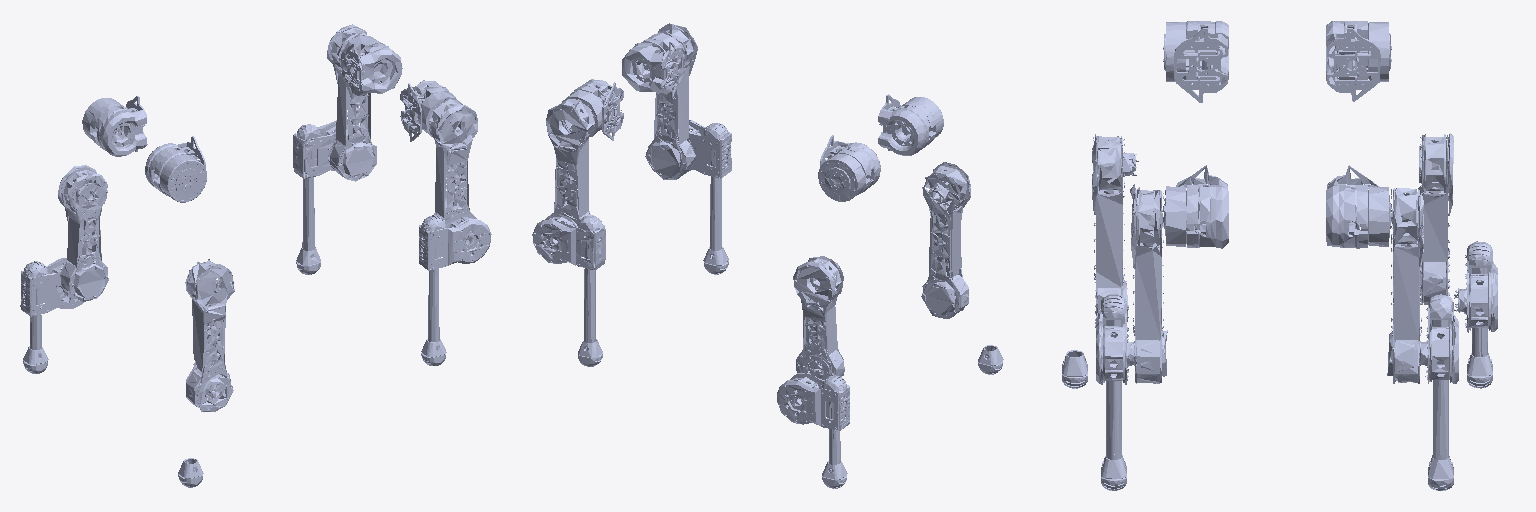
URDF robot description (anymal):
<?xml version="1.0" encoding="utf-8"?>
<!-- This URDF was automatically created by SolidWorks to URDF Exporter! Originally created by Stephen Brawner (brawner@gmail.com) 
     Commit Version: 1.6.0-4-g7f85cfe  Build Version: 1.6.7995.38578
     For more information, please see http://wiki.ros.org/sw_urdf_exporter -->
<robot
  name="anymal">
  <link
    name="base">
    <inertial>
      <origin
        xyz="0.003108 0.000061 0.008445"
        rpy="0 0 0" />
      <mass
        value="10.342" />
      <inertia
        ixx="131477391.556e-9"
        ixy="-35656.795e-9"
        ixz="257886.739e-9"
        iyy="328587491.167e-9"
        iyz="31766.975e-9"
        izz="423802600.524e-9" />
    </inertial>
    <visual>
      <origin
        xyz="0 0 0"
        rpy="0 0 0" />
      <geometry>
        <mesh
          filename="../meshes/base.dae" />
      </geometry>
      <material
        name="">
        <!-- <color
          rgba="0.79216 0.81961 0.93333 1" /> -->
      </material>
    </visual>
    <collision>
      <origin
        xyz="0 0 0.02"
        rpy="0 0 0" />
      <geometry>
        <box size="0.5 0.25 0.2" />
      </geometry>
    </collision>
  </link>
  <link
    name="FL_SHOULDER">
    <inertial>
      <origin
        xyz="51.772e-3 21.258e-3 -0.161e-3"
        rpy="0 0 0" />
      <mass
        value="1.276" />
      <inertia
        ixx="1862413.216e-9"
        ixy="34307.720e-9"
        ixz="1836.088e-9"
        iyy="1745876.060e-9"
        iyz="127.529e-9"
        izz="1887209.589e-9" />
    </inertial>
    <visual>
      <origin
        xyz="0 0 0"
        rpy="0 0 0" />
      <geometry>
        <mesh
          filename="../meshes/FL_SHOULDER.dae" />
      </geometry>
      <material
        name="">
        <color
          rgba="0.79216 0.81961 0.93333 1" />
      </material>
    </visual>
    <collision>
      <origin
        xyz="0.054 0 0"
        rpy="0 0 0" />
      <geometry>
        <box size="0.1 0.1 0.1" />
      </geometry>
    </collision>
  </link>
  <joint
    name="FL_HAA"
    type="revolute">
    <origin
      xyz="0.2635 0.12291 0"
      rpy="0 0 0" />
    <parent
      link="base" />
    <child
      link="FL_SHOULDER" />
    <axis
      xyz="1 0 0" />
    <limit
      lower="-3.14"
      upper="3.14"
      effort="30"
      velocity="20" />
  </joint>
  <link
    name="FL_UPPER_LEG">
    <inertial>
      <origin
        xyz="0.009e-3 25.634e-3 -165.001e-3"
        rpy="0 0 0" />
      <mass
        value="1.367" />
      <inertia
        ixx="16273403.695e-9"
        ixy="-161.140e-9"
        ixz="12937.356e-9"
        iyy="16691309.192e-9"
        iyz="130585.208e-9"
        izz="1167540.754e-9" />
    </inertial>
    <visual>
      <origin
        xyz="0 0 0"
        rpy="0 0 0" />
      <geometry>
        <mesh
          filename="../meshes/FL_UPPER_LEG.dae" />
      </geometry>
      <material
        name="">
        <color
          rgba="0.79216 0.81961 0.93333 1" />
      </material>
    </visual>
    <collision>
      <origin
        xyz="0 0.032 -0.1232"
        rpy="0 0 0" />
      <geometry>
        <box size="0.1 0.05 0.3" />
      </geometry>
    </collision>
  </link>
  <joint
    name="FL_HFE"
    type="revolute">
    <origin
      xyz="0.053259 0.061836 -0.0001687"
      rpy="0 0 0" />
    <parent
      link="FL_SHOULDER" />
    <child
      link="FL_UPPER_LEG" />
    <axis
      xyz="0 1 0" />
    <limit
      lower="-3.14"
      upper="3.14"
      effort="30"
      velocity="20" />
  </joint>
  <link
    name="FL_LOWER_FOOT">
    <inertial>
      <origin
        xyz="-41.308e-3 34.919e-3 -47.598e-3"
        rpy="0 0 0" />
      <mass
        value="0.759" />
      <inertia
        ixx="7966011.909e-9"
        ixy=" -9387.703e-9"
        ixz="1312983.562e-9"
        iyy="9247408.954e-9"
        iyz="-2373.514e-9"
        izz="1638567.052e-9" />
    </inertial>
    <visual>
      <origin
        xyz="0 0 0"
        rpy="0 0 0" />
      <geometry>
        <mesh
          filename="../meshes/FL_LOWER_LEG.dae" />
      </geometry>
      <material
        name="">
        <color
          rgba="0.79216 0.81961 0.93333 1" />
      </material>
    </visual>
    <collision>
      <origin
        xyz="-0.0772 0.038 -0.075"
        rpy="0 0 0" />
      <geometry>
        <box size="0.0535 0.05 0.29" />
      </geometry>
    </collision>
  </link>
  <joint
    name="FL_KFE"
    type="revolute">
    <origin
      xyz="0 0.0465 -0.2465"
      rpy="0 0 0" />
    <parent
      link="FL_UPPER_LEG" />
    <child
      link="FL_LOWER_FOOT" />
    <axis
      xyz="0 1 0" />
    <limit
      lower="-3.14"
      upper="3.14"
      effort="30"
      velocity="20" />
  </joint>
  <link
    name="FL_FOOT">
    <inertial>
      <origin
        xyz="35.896e-3 -0.081e-3 186.367e-3"
        rpy="0 0 0" />
      <mass
        value="0.01" />
      <inertia
        ixx="7966011.909e-9"
        ixy="-9387.703e-9"
        ixz="1312983.562e-9"
        iyy="9247408.954e-9"
        iyz="-2373.514e-9"
        izz="1638567.052e-9" />
    </inertial>
    <visual>
      <origin
        xyz="0 0 0"
        rpy="0 0 0" />
      <geometry>
        <mesh
          filename="../meshes/FL_FOOT.dae" />
      </geometry>
      <material
        name="">
        <color
          rgba="0.79216 0.81961 0.93333 1" />
      </material>
    </visual>
    <collision>
      <origin
        xyz="0 0 0"
        rpy="0 0 0" />
      <geometry>
        <sphere radius="0.0267" />
      </geometry>
    </collision>
  </link>
  <joint
    name="FL_FOOT_joint"
    type="fixed">
    <origin
      xyz="-0.077204 0.035 -0.23396"
      rpy="0 0 0" />
    <parent
      link="FL_LOWER_FOOT" />
    <child
      link="FL_FOOT" />
    <axis
      xyz="0 0 0" />
  </joint>
  <link
    name="FR_SHOULDER">
    <inertial>
      <origin
        xyz="51.772e-3 -21.258e-3 -0.161e-3"
        rpy="0 0 0" />
      <mass
        value="1.276" />
      <inertia
        ixx="1862413.216e-9"
        ixy="-34307.720e-9"
        ixz="1836.088e-9"
        iyy="1745876.060e-9"
        iyz="-127.529e-9"
        izz="1887209.589e-9" />
    </inertial>
    <visual>
      <origin
        xyz="0 0 0"
        rpy="0 0 0" />
      <geometry>
        <mesh
          filename="../meshes/FR_SHOULDER.dae" />
      </geometry>
      <material
        name="">
        <color
          rgba="0.79216 0.81961 0.93333 1" />
      </material>
    </visual>
    <collision>
      <origin
        xyz="0.054 0 0"
        rpy="0 0 0" />
      <geometry>
        <box size="0.1 0.1 0.1" />
      </geometry>
    </collision>
  </link>
  <joint
    name="FR_HAA"
    type="revolute">
    <origin
      xyz="0.2635 -0.12291 0"
      rpy="0 0 0" />
    <parent
      link="base" />
    <child
      link="FR_SHOULDER" />
    <axis
      xyz="1 0 0" />
    <limit
      lower="-3.14"
      upper="3.14"
      effort="30"
      velocity="20" />
  </joint>
  <link
    name="FR_UPPER_LEG">
    <inertial>
      <origin
        xyz="0.009e-3 -25.634e-3 -165.001e-3"
        rpy="0 0 0" />
      <mass
        value="1.367" />
      <inertia
        ixx="16273403.695e-9"
        ixy="161.140e-9"
        ixz="12937.356e-9"
        iyy="16691309.192e-9"
        iyz="-130585.208e-9"
        izz="1167540.754e-9" />
    </inertial>
    <visual>
      <origin
        xyz="0 0 0"
        rpy="0 0 0" />
      <geometry>
        <mesh
          filename="../meshes/FR_UPPER_LEG.dae" />
      </geometry>
      <material
        name="">
        <color
          rgba="0.79216 0.81961 0.93333 1" />
      </material>
    </visual>
    <collision>
      <origin
        xyz="0 -0.028 -0.1232"
        rpy="0 0 0" />
      <geometry>
        <box size="0.1 0.05 0.3" />
      </geometry>
    </collision>
  </link>
  <joint
    name="FR_HFE"
    type="revolute">
    <origin
      xyz="0.053259 -0.061836 9.9925E-05"
      rpy="0 0 0" />
    <parent
      link="FR_SHOULDER" />
    <child
      link="FR_UPPER_LEG" />
    <axis
      xyz="0 1 0" />
    <limit
      lower="-3.14"
      upper="3.14"
      effort="30"
      velocity="20" />
  </joint>
  <link
    name="FR_LOWER_FOOT">
    <inertial>
      <origin
        xyz="-41.308e-3 -34.919e-3 -47.598e-3"
        rpy="0 0 0" />
      <mass
        value="0.759" />
      <inertia
        ixx="7966011.909e-9"
        ixy=" 9387.703e-9"
        ixz="1312983.562e-9"
        iyy="9247408.954e-9"
        iyz="2373.514e-9"
        izz="1638567.052e-9" />
    </inertial>
    <visual>
      <origin
        xyz="0 0 0"
        rpy="0 0 0" />
      <geometry>
        <mesh
          filename="../meshes/FR_LOWER_LEG.dae" />
      </geometry>
      <material
        name="">
        <color
          rgba="0.79216 0.81961 0.93333 1" />
      </material>
    </visual>
    <collision>
      <origin
        xyz="-0.0772 -0.038 -0.075"
        rpy="0 0 0" />
      <geometry>
        <box size="0.0535 0.05 0.29" />
      </geometry>
    </collision>
  </link>
  <joint
    name="FR_KFE"
    type="revolute">
    <origin
      xyz="0 -0.0465 -0.2465"
      rpy="0 0 0" />
    <parent
      link="FR_UPPER_LEG" />
    <child
      link="FR_LOWER_FOOT" />
    <axis
      xyz="0 1 0" />
    <limit
      lower="-3.14"
      upper="3.14"
      effort="30"
      velocity="20" />
  </joint>
  <link
    name="FR_FOOT">
    <inertial>
      <origin
        xyz="35.896e-3 0.081e-3 186.367e-3"
        rpy="0 0 0" />
      <mass
        value="0.01" />
      <inertia
        ixx="7966011.909e-9"
        ixy="9387.703e-9"
        ixz="1312983.562e-9"
        iyy="9247408.954e-9"
        iyz="2373.514e-9"
        izz="1638567.052e-9" />
    </inertial>
    <visual>
      <origin
        xyz="0 0 0"
        rpy="0 0 0" />
      <geometry>
        <mesh
          filename="../meshes/FR_FOOT.dae" />
      </geometry>
      <material
        name="">
        <color
          rgba="0.79216 0.81961 0.93333 1" />
      </material>
    </visual>
    <collision>
      <origin
        xyz="0 0 0"
        rpy="0 0 0" />
      <geometry>
        <!-- <mesh filename="../meshes/FR_FOOT.dae" /> -->
        <sphere radius="0.0267" />
      </geometry>
    </collision>
  </link>
  <joint
    name="FR_FOOT_joint"
    type="fixed">
    <origin
      xyz="-0.07715 -0.035 -0.23396"
      rpy="0 0 0" />
    <parent
      link="FR_LOWER_FOOT" />
    <child
      link="FR_FOOT" />
    <axis
      xyz="0 0 0" />
  </joint>
  <link
    name="HL_SHOULDER">
    <inertial>
      <origin
        xyz="-51.779e-3 21.258e-3 0.042e-3"
        rpy="0 0 0" />
      <mass
        value="1.276" />
      <inertia
        ixx="1862438.249e-9"
        ixy="-34011.999e-9"
        ixz="-510.439e-9"
        iyy="1745191.990e-9"
        iyz="-556.317e-9"
        izz="1886523.749e-9" />
    </inertial>
    <visual>
      <origin
        xyz="0 0 0"
        rpy="0 0 0" />
      <geometry>
        <mesh
          filename="../meshes/HL_SHOULDER.dae" />
      </geometry>
      <material
        name="">
        <color
          rgba="0.79216 0.81961 0.93333 1" />
      </material>
    </visual>
    <collision>
      <origin
        xyz="-0.054 0 0"
        rpy="0 0 0" />
      <geometry>
        <box size="0.1 0.1 0.1" />
      </geometry>
    </collision>
  </link>
  <joint
    name="HL_HAA"
    type="revolute">
    <origin
      xyz="-0.2635 0.12291 0"
      rpy="0 0 0" />
    <parent
      link="base" />
    <child
      link="HL_SHOULDER" />
    <axis
      xyz="1 0 0" />
    <limit
      lower="-3.14"
      upper="3.14"
      effort="30"
      velocity="20" />
  </joint>
  <link
    name="HL_EXTRA_LEG">
    <inertial>
      <origin
        xyz="0.003e-3 25.470e-3 -134.787e-3"
        rpy="0 0 0" />
      <mass
        value="1.315" />
      <inertia
        ixx="11053712.614e-9"
        ixy="-166.896e-9"
        ixz="13255.147e-9"
        iyy="11463665.170e-9"
        iyz="105489.550e-9"
        izz="1146965.026e-9" />
    </inertial>
    <visual>
      <origin
        xyz="0 0 0"
        rpy="0 0 0" />
      <geometry>
        <mesh
          filename="../meshes/HL_EXTRA_LEG.dae" />
      </geometry>
      <material
        name="">
        <color
          rgba="0.79216 0.81961 0.93333 1" />
      </material>
    </visual>
    <collision>
      <origin
        xyz="0 0.028 -0.1005"
        rpy="0 0 0" />
      <geometry>
        <box size="0.1 0.05 0.301" />
      </geometry>
    </collision>
  </link>
  <joint
    name="HL_EXTRA"
    type="revolute">
    <origin
      xyz="-0.053259 0.061836 9.9925E-05"
      rpy="0 0 0" />
    <parent
      link="HL_SHOULDER" />
    <child
      link="HL_EXTRA_LEG" />
    <axis
      xyz="0 1 0" />
    <limit
      lower="-3.14"
      upper="3.14"
      effort="30"
      velocity="20" />
  </joint>
  <link
    name="HL_UPPER_LEG">
    <inertial>
      <origin
        xyz=" 0.005e-3 41.724e-3 -160.773e-3"
        rpy="0 0 0" />
      <mass
        value="1.406" />
      <inertia
        ixx="17322697.149e-9"
        ixy="-166.299e-9"
        ixz="13745.847e-9"
        iyy="17702007.589e-9"
        iyz=" -74976.358e-9"
        izz="1218582.595e-9" />
    </inertial>
    <visual>
      <origin
        xyz="0 0 0"
        rpy="0 0 0" />
      <geometry>
        <mesh
          filename="../meshes/HL_UPPER_LEG.dae" />
      </geometry>
      <material
        name="">
        <color
          rgba="0.79216 0.81961 0.93333 1" />
      </material>
    </visual>
    <collision>
      <origin
        xyz="0 0.045 -0.1233"
        rpy="0 0 0" />
      <geometry>
        <box size="0.06 0.05 0.35" />
      </geometry>
    </collision>
  </link>
  <joint
    name="HL_HFE"
    type="revolute">
    <origin
      xyz="0 0.0465 -0.201"
      rpy="0 0 0" />
    <parent
      link="HL_EXTRA_LEG" />
    <child
      link="HL_UPPER_LEG" />
    <axis
      xyz="0 1 0" />
    <limit
      lower="-3.14"
      upper="3.14"
      effort="30"
      velocity="20" />
  </joint>
  <link
    name="HL_LOWER_FOOT">
    <inertial>
      <origin
        xyz="-40.122e-3 34.916e-3 -27.409e-3"
        rpy="0 0 0" />
      <mass
        value="0.734" />
      <inertia
        ixx="3597127.046e-9"
        ixy="-9314.367e-9"
        ixz="762796.820e-9"
        iyy="4846202.923e-9"
        iyz="-1133.290e-9"
        izz="1602960.774e-9" />
    </inertial>
    <visual>
      <origin
        xyz="0 0 0"
        rpy="0 0 0" />
      <geometry>
        <mesh
          filename="../meshes/HL_LOWER_LEG.dae" />
      </geometry>
      <material
        name="">
        <color
          rgba="0.79216 0.81961 0.93333 1" />
      </material>
    </visual>
    <collision>
      <origin
        xyz="-0.0772 0.038 -0.03"
        rpy="0 0 0" />
      <geometry>
        <box size="0.0535 0.05 0.2" />
      </geometry>
    </collision>
  </link>
  <joint
    name="HL_KFE"
    type="revolute">
    <origin
      xyz="0 0.0635 -0.2465"
      rpy="0 0 0" />
    <parent
      link="HL_UPPER_LEG" />
    <child
      link="HL_LOWER_FOOT" />
    <axis
      xyz="0 1 0" />
    <limit
      lower="-3.14"
      upper="3.14"
      effort="30"
      velocity="20" />
  </joint>
  <link
    name="HL_FOOT">
    <inertial>
      <origin
        xyz="37.082e-3 -0.084e-3 116.555e-3"
        rpy="0 0 0" />
      <mass
        value="0.01" />
      <inertia
        ixx="3597127.046e-9"
        ixy="-9314.367e-9"
        ixz="762796.820e-9"
        iyy="4846202.923e-9"
        iyz="-1133.290e-9"
        izz="1602960.774e-9" />
    </inertial>
    <visual>
      <origin
        xyz="0 0 0"
        rpy="0 0 0" />
      <geometry>
        <mesh
          filename="../meshes/HL_FOOT.dae" />
      </geometry>
      <material
        name="">
        <color
          rgba="0.79216 0.81961 0.93333 1" />
      </material>
    </visual>
    <collision>
      <origin
        xyz="0 0 0"
        rpy="0 0 0" />
      <geometry>
        <sphere radius="0.0267" />
      </geometry>
    </collision>
  </link>
  <joint
    name="HL_FOOT_joint"
    type="fixed">
    <origin
      xyz="-0.077204 0.035 -0.14396"
      rpy="0 0 0" />
    <parent
      link="HL_LOWER_FOOT" />
    <child
      link="HL_FOOT" />
    <axis
      xyz="0 0 0" />
  </joint>
  <link
    name="HR_SHOULDER">
    <inertial>
      <origin
        xyz="-51.779e-3 -21.258e-3 0.042e-3"
        rpy="0 0 0" />
      <mass
        value="1.276" />
      <inertia
        ixx="1862438.249e-9"
        ixy="34011.999e-9"
        ixz="-510.439e-9"
        iyy="1745191.990e-9"
        iyz="556.317e-9"
        izz="1886523.749e-9" />
    </inertial>
    <visual>
      <origin
        xyz="0 0 0"
        rpy="0 0 0" />
      <geometry>
        <mesh
          filename="../meshes/HR_SHOULDER.dae" />
      </geometry>
      <material
        name="">
        <color
          rgba="0.79216 0.81961 0.93333 1" />
      </material>
    </visual>
    <collision>
      <origin
        xyz="-0.054 0 0"
        rpy="0 0 0" />
      <geometry>
        <box size="0.1 0.1 0.1" />
      </geometry>
    </collision>
  </link>
  <joint
    name="HR_HAA"
    type="revolute">
    <origin
      xyz="-0.2635 -0.12291 0"
      rpy="0 0 0" />
    <parent
      link="base" />
    <child
      link="HR_SHOULDER" />
    <axis
      xyz="1 0 0" />
    <limit
      lower="-3.14"
      upper="3.14"
      effort="30"
      velocity="20" />
  </joint>
  <link
    name="HR_EXTRA_LEG">
    <inertial>
      <origin
        xyz="0.003e-3 -25.470e-3 -134.787e-3"
        rpy="0 0 0" />
      <mass
        value="1.315" />
      <inertia
        ixx="11053712.614e-9"
        ixy="166.896e-9"
        ixz="13255.147e-9"
        iyy="11463665.170e-9"
        iyz="-105489.550e-9"
        izz="1146965.026e-9" />
    </inertial>
    <visual>
      <origin
        xyz="0 0 0"
        rpy="0 0 0" />
      <geometry>
        <mesh
          filename="../meshes/HR_EXTRA_LEG.dae" />
      </geometry>
      <material
        name="">
        <color
          rgba="0.79216 0.81961 0.93333 1" />
      </material>
    </visual>
    <collision>
      <origin
        xyz="0 -0.028 -0.1005"
        rpy="0 0 0" />
      <geometry>
        <box size="0.1 0.05 0.301" />
      </geometry>
    </collision>
  </link>
  <joint
    name="HR_EXTRA"
    type="revolute">
    <origin
      xyz="-0.053259 -0.061836 -0.0001687"
      rpy="0 0 0" />
    <parent
      link="HR_SHOULDER" />
    <child
      link="HR_EXTRA_LEG" />
    <axis
      xyz="0 1 0" />
    <limit
      lower="-3.14"
      upper="3.14"
      effort="30"
      velocity="20" />
  </joint>
  <link
    name="HR_UPPER_LEG">
    <inertial>
      <origin
        xyz="-40.122e-3 -34.916e-3 -27.409e-3"
        rpy="0 0 0" />
      <mass
        value="0.734" />
      <inertia
        ixx="3597127.046e-9"
        ixy="9314.367e-9"
        ixz="762796.820e-9"
        iyy="4846202.923e-9"
        iyz="1133.290e-9"
        izz="1602960.774e-9" />
    </inertial>
    <visual>
      <origin
        xyz="0 0 0"
        rpy="0 0 0" />
      <geometry>
        <mesh
          filename="../meshes/HR_UPPER_LEG.dae" />
      </geometry>
      <material
        name="">
        <color
          rgba="0.79216 0.81961 0.93333 1" />
      </material>
    </visual>
    <collision>
      <origin
        xyz="0 -0.045 -0.1232"
        rpy="0 0 0" />
      <geometry>
        <box size="0.06 0.05 0.35" />
      </geometry>
    </collision>
  </link>
  <joint
    name="HR_HFE"
    type="revolute">
    <origin
      xyz="0 -0.0465 -0.201"
      rpy="0 0 0" />
    <parent
      link="HR_EXTRA_LEG" />
    <child
      link="HR_UPPER_LEG" />
    <axis
      xyz="0 1 0" />
    <limit
      lower="-3.14"
      upper="3.14"
      effort="30"
      velocity="20" />
  </joint>
  <link
    name="HR_LOWER_FOOT">
    <inertial>
      <origin
        xyz="-40.122e-3 -34.916e-3 -27.409e-3"
        rpy="0 0 0" />
      <mass
        value="0.734" />
      <inertia
        ixx="3597127.046e-9"
        ixy="9314.367e-9"
        ixz="762796.820e-9"
        iyy="4846202.923e-9"
        iyz="1133.290e-9"
        izz="1602960.774e-9" />
    </inertial>
    <visual>
      <origin
        xyz="0 0 0"
        rpy="0 0 0" />
      <geometry>
        <mesh
          filename="../meshes/HR_LOWER_LEG.dae" />
      </geometry>
      <material
        name="">
        <color
          rgba="0.79216 0.81961 0.93333 1" />
      </material>
    </visual>
    <collision>
      <origin
        xyz="-0.0772 -0.038 -0.03"
        rpy="0 0 0" />
      <geometry>
        <box size="0.0535 0.05 0.2" />
      </geometry>
    </collision>
  </link>
  <joint
    name="HR_KFE"
    type="revolute">
    <origin
      xyz="0 -0.0635 -0.2465"
      rpy="0 0 0" />
    <parent
      link="HR_UPPER_LEG" />
    <child
      link="HR_LOWER_FOOT" />
    <axis
      xyz="0 1 0" />
    <limit
      lower="-3.14"
      upper="3.14"
      effort="30"
      velocity="20" />
  </joint>
  <link
    name="HR_FOOT">
    <inertial>
      <origin
        xyz="37.082e-3 0.084e-3 116.555e-3"
        rpy="0 0 0" />
      <mass
        value="0.01" />
      <inertia
        ixx="3597127.046e-9"
        ixy="9314.367e-9"
        ixz="762796.820e-9"
        iyy="4846202.923e-9"
        iyz="1133.290e-9"
        izz="1602960.774e-9" />
    </inertial>
    <visual>
      <origin
        xyz="0 0 0"
        rpy="0 0 0" />
      <geometry>
        <mesh
          filename="../meshes/HR_FOOT.dae" />
      </geometry>
      <material
        name="">
        <color
          rgba="0.79216 0.81961 0.93333 1" />
      </material>
    </visual>
    <collision>
      <origin
        xyz="0 0 0"
        rpy="0 0 0" />
      <geometry>
        <sphere radius="0.0267" />
      </geometry>
    </collision>
  </link>
  <joint
    name="HR_FOOT_joint"
    type="fixed">
    <origin
      xyz="-0.077203 -0.035 -0.14396"
      rpy="0 0 0" />
    <parent
      link="HR_LOWER_FOOT" />
    <child
      link="HR_FOOT" />
    <axis
      xyz="0 0 0" />
  </joint>
</robot>

--- What the picture shows (computed from the rendered views, not written in the file) ---
Views: 3 orthographic renders of the robot side by side, from view 1: azimuth 30°, elevation 25°; view 2: azimuth 150°, elevation 25°; view 3: azimuth 270°, elevation 25°.
Model anymal with 19 links and 18 joints (14 revolute, 4 fixed), rooted at base, posed all joints at 0.
Visible links, largest first — view 1: HR_UPPER_LEG, HL_UPPER_LEG, FR_UPPER_LEG, FL_UPPER_LEG, FR_LOWER_FOOT, HL_SHOULDER, HR_SHOULDER, FL_SHOULDER, FL_LOWER_FOOT, HL_LOWER_FOOT, FR_SHOULDER, HR_FOOT; view 2: HR_UPPER_LEG, HL_UPPER_LEG, FL_UPPER_LEG, FL_LOWER_FOOT, FR_UPPER_LEG, HL_LOWER_FOOT, HR_SHOULDER, HL_SHOULDER, FR_SHOULDER, FR_LOWER_FOOT, FL_SHOULDER, HR_FOOT; view 3: FL_UPPER_LEG, FR_UPPER_LEG, HR_UPPER_LEG, HL_UPPER_LEG, HR_SHOULDER, HL_SHOULDER, FR_SHOULDER, FL_SHOULDER, FR_LOWER_FOOT, FL_LOWER_FOOT, HL_LOWER_FOOT, HR_FOOT (+3 smaller).
Boxes of the visible links, x1,y1,x2,y2 form: HR_UPPER_LEG: [185, 259, 234, 411]; HL_UPPER_LEG: [58, 165, 108, 301]; FR_UPPER_LEG: [428, 99, 477, 223]; FL_UPPER_LEG: [327, 24, 376, 181]; FR_LOWER_FOOT: [419, 213, 491, 349]; HL_SHOULDER: [82, 96, 147, 156]; HR_SHOULDER: [145, 136, 206, 202]; FL_SHOULDER: [341, 35, 402, 98]; FL_LOWER_FOOT: [293, 120, 347, 257]; HL_LOWER_FOOT: [20, 258, 83, 357]; FR_SHOULDER: [400, 80, 462, 141]; HR_FOOT: [178, 458, 203, 487]; HR_UPPER_LEG: [921, 162, 970, 318]; HL_UPPER_LEG: [793, 256, 844, 383]; FL_UPPER_LEG: [546, 99, 595, 222]; FL_LOWER_FOOT: [532, 213, 605, 349]; FR_UPPER_LEG: [645, 23, 697, 179]; HL_LOWER_FOOT: [777, 373, 849, 471]; HR_SHOULDER: [878, 94, 943, 155]; HL_SHOULDER: [818, 135, 880, 201]; FR_SHOULDER: [622, 33, 683, 98]; FR_LOWER_FOOT: [689, 120, 731, 257]; FL_SHOULDER: [562, 79, 623, 140]; HR_FOOT: [978, 345, 1003, 374]; FL_UPPER_LEG: [1387, 186, 1423, 383]; FR_UPPER_LEG: [1130, 184, 1167, 383]; HR_UPPER_LEG: [1092, 134, 1138, 327]; HL_UPPER_LEG: [1419, 133, 1453, 304]; HR_SHOULDER: [1163, 21, 1228, 102]; HL_SHOULDER: [1326, 21, 1391, 101]; FR_SHOULDER: [1163, 165, 1228, 248]; FL_SHOULDER: [1326, 165, 1391, 248]; FR_LOWER_FOOT: [1096, 294, 1134, 465]; FL_LOWER_FOOT: [1419, 294, 1458, 464]; HL_LOWER_FOOT: [1454, 241, 1497, 362]; HR_FOOT: [1062, 350, 1087, 388].
Bounding box of the posed robot: 0.7895 × 0.7109 × 0.7065 m (x, y, z).
Meshes: 19 distinct files referenced, 15 mesh visuals loaded (15 Collada DAE); not drawn: 4 (reference not matched to a file when rendering).
